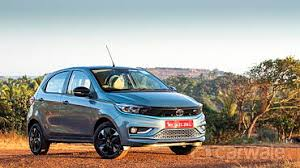Tiago: (19, 63, 209, 164)
